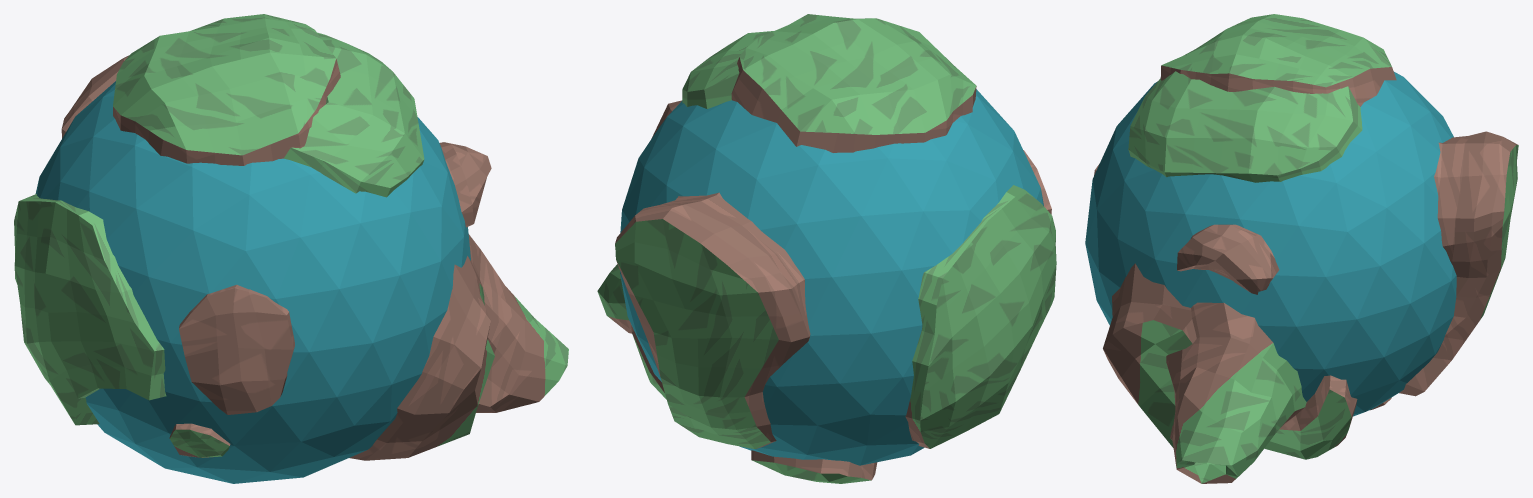
The model's file is msh_PocketPlanet.fbx.
3 renders of one model, left to right at view 1: azimuth 30°, elevation 25°; view 2: azimuth 150°, elevation 25°; view 3: azimuth 270°, elevation 25°, orthographic. The views are drawn at different scales.
Parts seen in each view (by area): view 1: Icosphere, Island1, Island1.004, Island1.003, Island1.009, Island1.007, Cube.015, Island1.010, Island1.008, Island1.002; view 2: Icosphere, Island1.002, Island1.004, Island1, Island1.003, Island1.005, Cube.015; view 3: Icosphere, Island1.003, Cube.015, Island1.002, Island1, Island1.009, Island1.010, Island1.006.
Boxes of the visible parts, x1=… form: Icosphere: x1=35, y1=81, x2=470, y2=483; Island1: x1=113, y1=14, x2=340, y2=165; Island1.004: x1=14, y1=194, x2=166, y2=425; Island1.003: x1=284, y1=32, x2=424, y2=197; Island1.009: x1=349, y1=256, x2=494, y2=460; Island1.007: x1=179, y1=284, x2=294, y2=414; Cube.015: x1=468, y1=234, x2=568, y2=412; Island1.010: x1=439, y1=142, x2=491, y2=227; Island1.008: x1=169, y1=423, x2=230, y2=457; Island1.002: x1=61, y1=55, x2=128, y2=138; Icosphere: x1=620, y1=89, x2=1043, y2=465; Island1.002: x1=615, y1=192, x2=810, y2=448; Island1.004: x1=905, y1=185, x2=1056, y2=448; Island1: x1=731, y1=14, x2=976, y2=152; Island1.003: x1=682, y1=31, x2=773, y2=108; Island1.005: x1=751, y1=450, x2=877, y2=483; Cube.015: x1=597, y1=264, x2=631, y2=333; Icosphere: x1=1085, y1=71, x2=1456, y2=416; Island1.003: x1=1128, y1=71, x2=1362, y2=182; Cube.015: x1=1166, y1=302, x2=1306, y2=483; Island1.002: x1=1399, y1=131, x2=1518, y2=396; Island1: x1=1160, y1=14, x2=1396, y2=106; Island1.009: x1=1103, y1=263, x2=1196, y2=447; Island1.010: x1=1177, y1=224, x2=1279, y2=294; Island1.006: x1=1264, y1=375, x2=1357, y2=459.
Size of the model in its own units: 2688 by 2311 by 2388.
